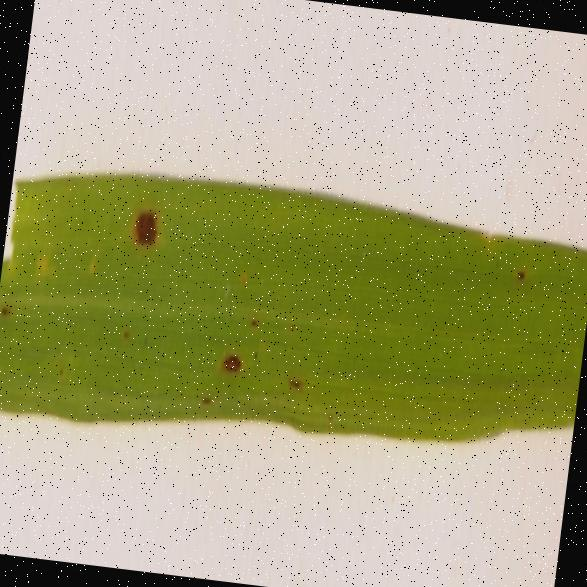Brown_Spot: (127, 180, 167, 263), (213, 320, 246, 394), (273, 345, 313, 404), (0, 277, 28, 352), (509, 239, 535, 294)
